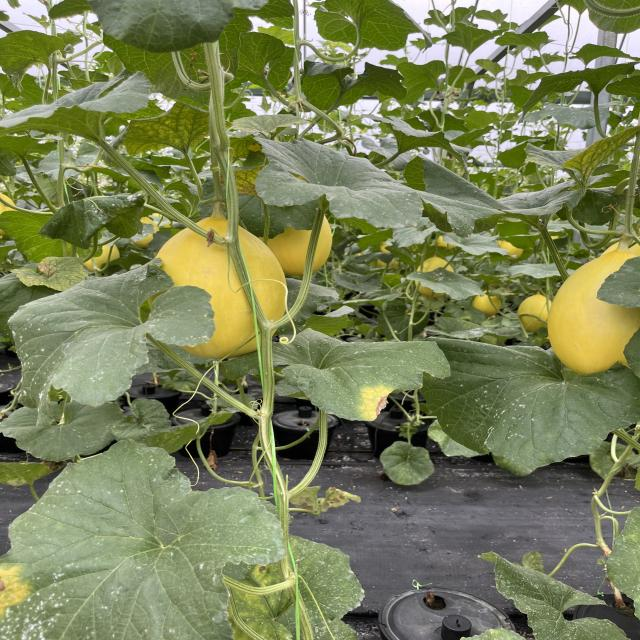alternaria leaf blight: (264, 326, 446, 424), (518, 127, 640, 192), (7, 254, 92, 291)
downy mildew: (7, 446, 282, 640), (3, 252, 225, 409), (425, 338, 640, 476), (253, 132, 503, 240), (40, 193, 152, 248)
powdery mildew: (480, 547, 634, 640)
